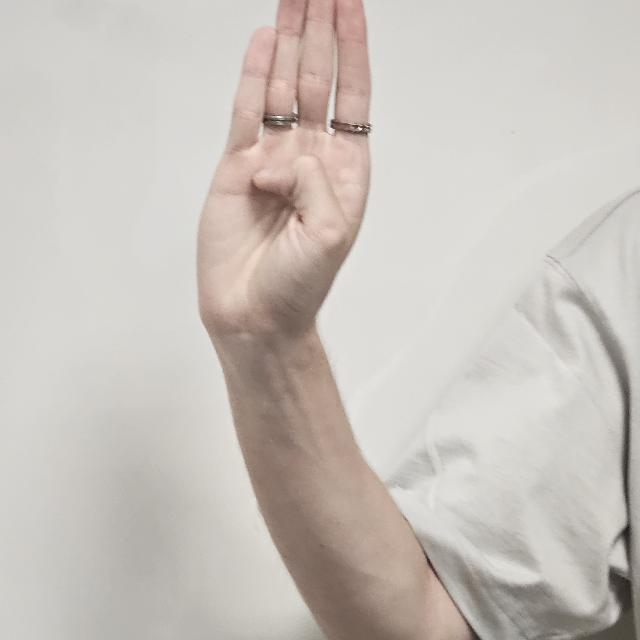Baixo: (196, 0, 370, 352)
